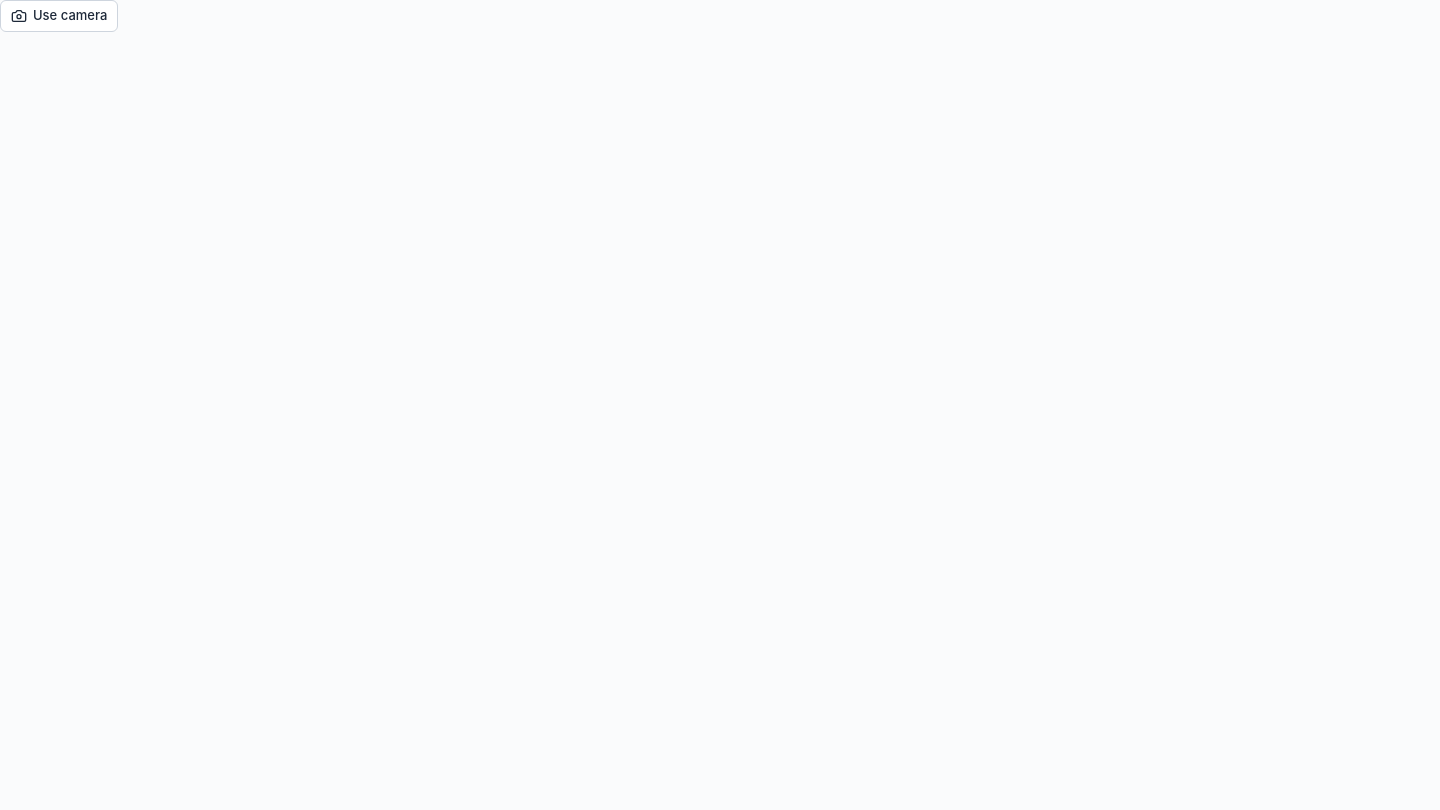
Test case: WebcamCapture › explains a denied camera and still accepts uploaded files
Later steps or results of the test are not shown.
Click the button "Use camera" at (59, 16), box [0,0,118,32]
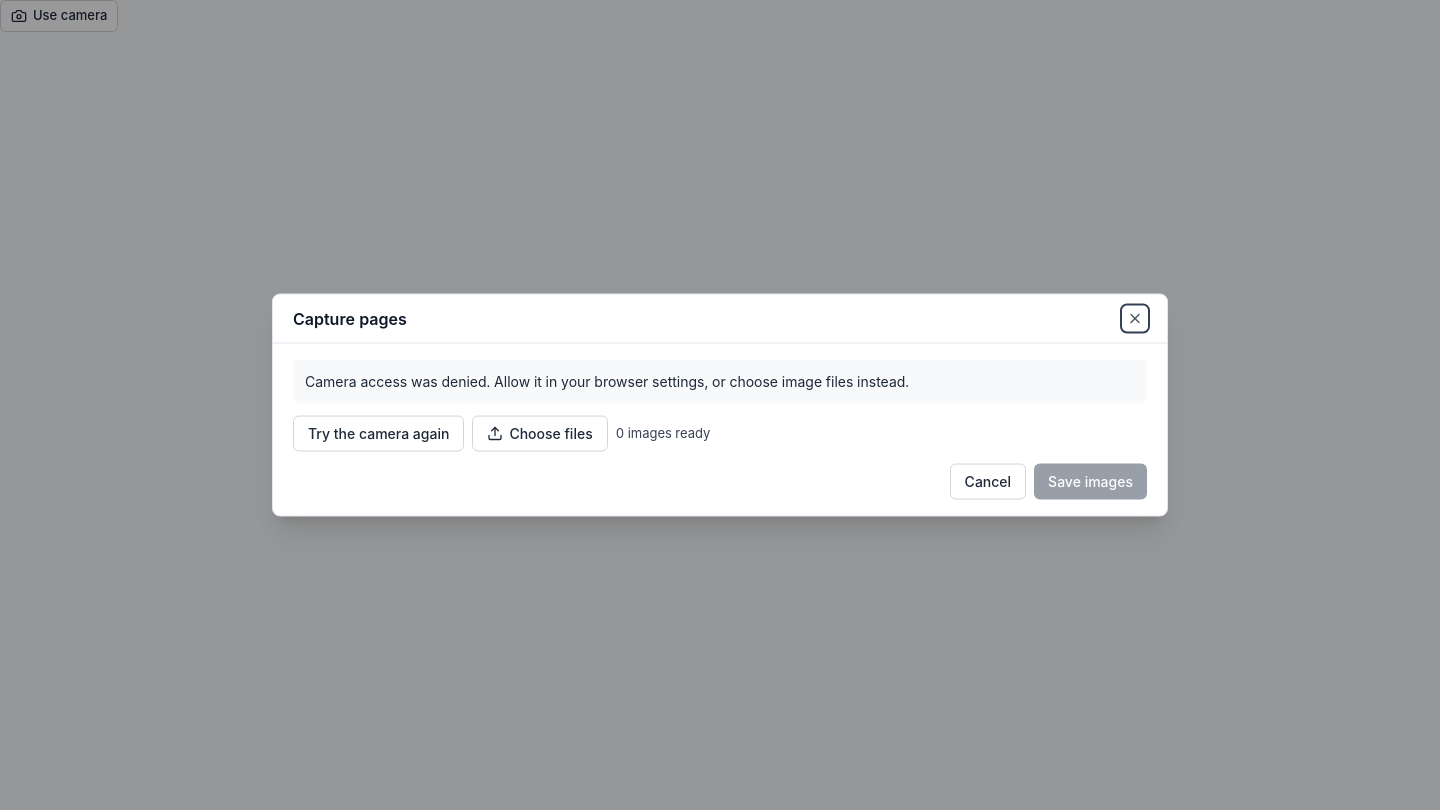
Check: the 1st message shows "denied", box [305,372,909,390]
